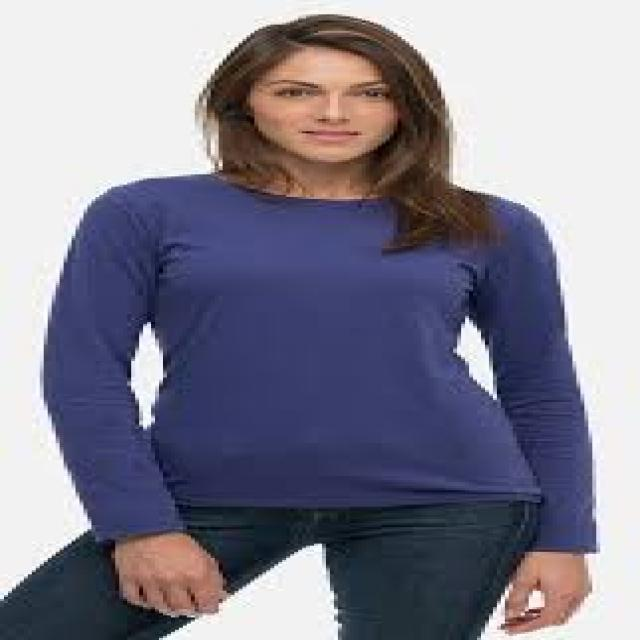plain: (37, 172, 614, 545)
